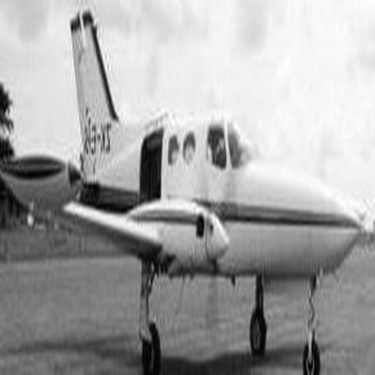airplane: (3, 1, 370, 374)
